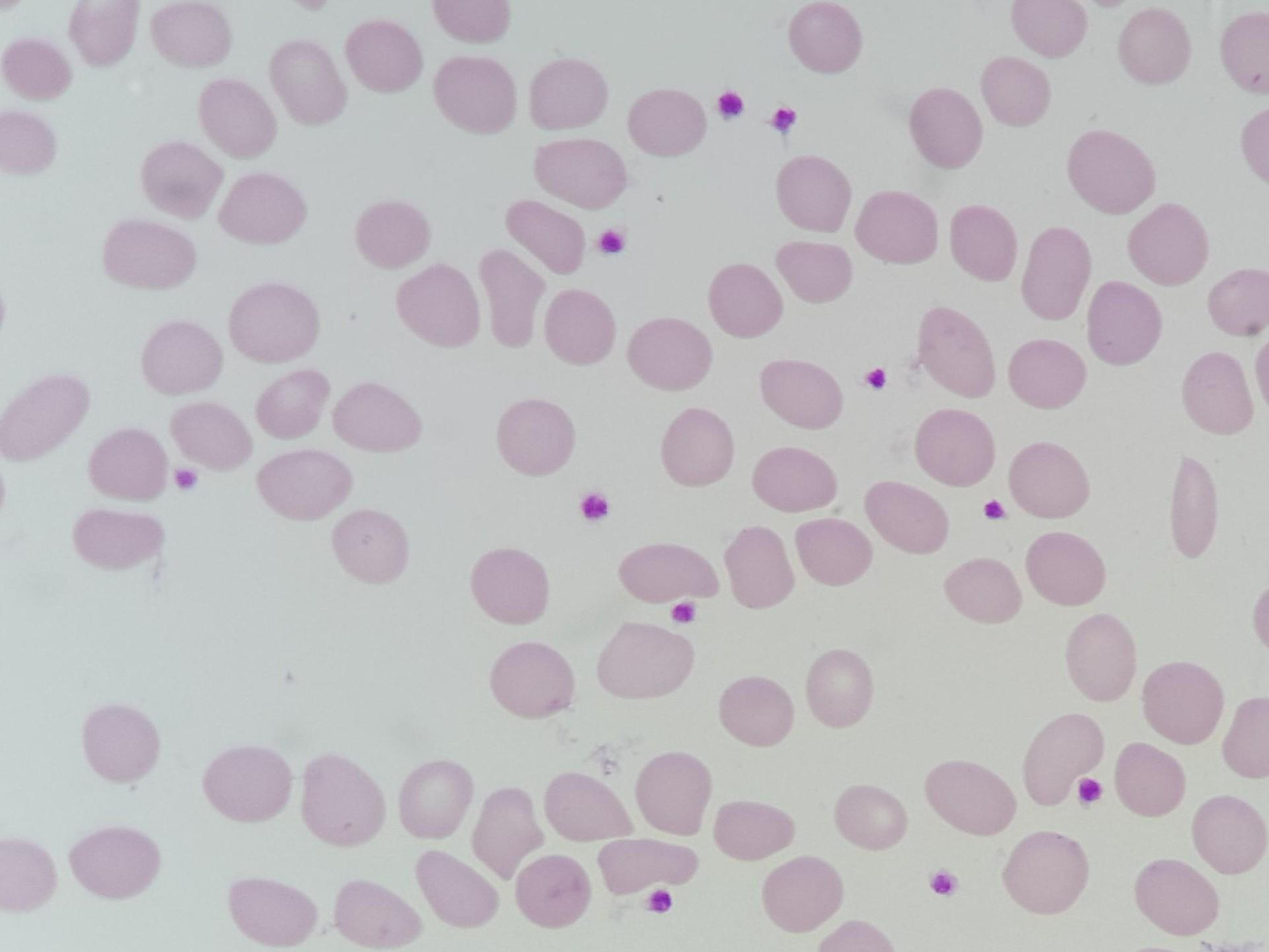Uninfected: (141, 225, 264, 289), (191, 767, 316, 829), (336, 447, 441, 520), (653, 1, 770, 66), (981, 800, 1096, 866), (47, 751, 161, 817), (153, 692, 260, 762), (272, 856, 387, 919), (95, 353, 222, 410), (806, 296, 919, 360), (1102, 201, 1215, 264), (1088, 323, 1197, 388), (783, 172, 890, 238), (173, 152, 276, 220), (737, 689, 857, 747), (985, 400, 1084, 470), (68, 51, 167, 121), (801, 359, 933, 411), (19, 850, 126, 914), (887, 844, 999, 905), (153, 476, 268, 535), (971, 105, 1080, 167), (528, 647, 630, 713), (24, 570, 129, 634), (842, 764, 964, 819), (308, 367, 414, 430), (941, 163, 1040, 230), (574, 192, 670, 261), (882, 77, 978, 146), (29, 312, 134, 375), (144, 407, 244, 473), (664, 249, 760, 317), (914, 640, 1016, 704), (779, 814, 893, 871), (899, 378, 1002, 441), (618, 685, 723, 746), (462, 464, 548, 538), (436, 353, 542, 413), (576, 756, 682, 816), (456, 542, 567, 599), (7, 170, 100, 238), (688, 887, 802, 942), (332, 799, 448, 853), (1057, 149, 1163, 208), (148, 299, 255, 357), (4, 250, 98, 316), (460, 769, 563, 829), (31, 385, 132, 446), (956, 582, 1062, 640), (1093, 396, 1192, 458), (747, 471, 847, 532), (224, 61, 329, 119), (71, 448, 153, 522), (600, 66, 699, 127), (1142, 257, 1241, 318), (489, 249, 591, 308), (584, 563, 676, 628), (639, 127, 735, 189), (638, 373, 737, 433), (272, 538, 371, 598), (815, 530, 916, 588), (695, 569, 789, 631), (1044, 682, 1151, 736), (890, 712, 997, 766), (103, 894, 207, 949), (180, 835, 282, 891), (741, 107, 839, 165), (722, 756, 820, 814), (1057, 470, 1150, 531), (619, 495, 723, 549), (484, 597, 579, 656), (298, 603, 403, 656), (780, 408, 883, 462), (1155, 839, 1258, 893), (507, 55, 591, 121), (435, 707, 527, 767), (1177, 112, 1266, 174), (907, 264, 1000, 323), (861, 580, 949, 640), (120, 533, 202, 597), (681, 191, 773, 248), (1169, 591, 1266, 645), (134, 625, 225, 682), (1098, 735, 1194, 788), (1178, 51, 1267, 106), (524, 878, 660, 913), (1190, 757, 1269, 815), (1133, 2, 1217, 53), (820, 905, 911, 952), (52, 0, 149, 42), (1145, 915, 1250, 952), (229, 917, 338, 952), (1210, 323, 1267, 385), (1035, 0, 1120, 41)
